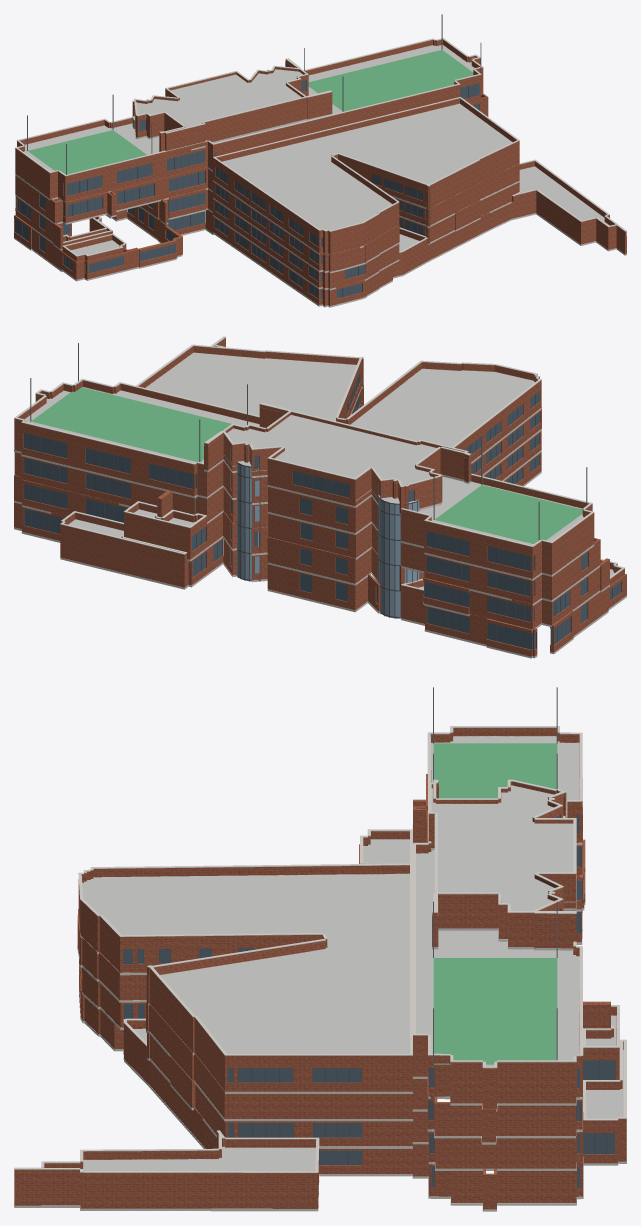
Rendered from campus-exterior.glb.
The picture shows the model from 3 angles, top to bottom: view 1: azimuth 30°, elevation 25°; view 2: azimuth 150°, elevation 25°; view 3: azimuth 270°, elevation 25°; orthographic projection. The views are drawn at different scales.
Parts seen in each view (by area): view 1: Ext_B_Roof, Ext_A_Rooftop, Ext_B_P2, Ext_A_Roof, Ext_A_Courts, Ext_A_P5, Ext_B_P5, Ext_B_P4, Ext_B_P3, Ext_A_P4, Ext_A_P2, Ext_A_P3; view 2: Ext_B_Roof, Ext_A_Rooftop, Ext_A_P2, Ext_A_P5, Ext_A_P3, Ext_A_Roof, Ext_A_P4, Ext_A_Courts, Ext_A_Stair_Towers, Ext_B_P5, Ext_B_P4, Ext_B_P2 (+1 smaller); view 3: Ext_B_Roof, Ext_A_Rooftop, Ext_A_Roof, Ext_A_Courts, Ext_B_P2, Ext_B_P5, Ext_B_P4, Ext_A_P2, Ext_B_P3, Ext_A_P4, Ext_A_P3, Ext_A_P5.
Boxes of the visible parts, x1,y1,x2,y2 form: Ext_B_Roof: (62,97,626,261); Ext_A_Rooftop: (132,58,332,151); Ext_B_P2: (61,166,626,307); Ext_A_Roof: (15,38,483,245); Ext_A_Courts: (27,14,481,174); Ext_A_P5: (15,45,483,201); Ext_B_P5: (213,103,519,255); Ext_B_P4: (213,163,519,273); Ext_B_P3: (213,182,519,290); Ext_A_P4: (15,93,488,224); Ext_A_P2: (14,206,214,271); Ext_A_P3: (15,188,212,250); Ext_B_Roof: (136,336,624,585); Ext_A_Rooftop: (204,402,471,514); Ext_A_P2: (14,502,608,658); Ext_A_P5: (14,387,594,580); Ext_A_P3: (14,475,609,631); Ext_A_Roof: (14,378,594,596); Ext_A_P4: (14,452,600,605); Ext_A_Courts: (30,343,587,543); Ext_A_Stair_Towers: (236,461,420,618); Ext_B_P5: (145,352,541,463); Ext_B_P4: (351,385,541,475); Ext_B_P2: (223,344,626,610); Ext_B_Roof: (14,829,412,1181); Ext_A_Rooftop: (428,779,576,950); Ext_A_Roof: (412,726,626,1128); Ext_A_Courts: (433,687,557,1064); Ext_B_P2: (14,844,412,1211); Ext_B_P5: (78,873,412,1093); Ext_B_P4: (77,909,413,1121); Ext_A_P2: (412,839,626,1211); Ext_B_P3: (79,959,412,1148); Ext_A_P4: (412,774,610,1144); Ext_A_P3: (412,799,619,1170); Ext_A_P5: (412,736,583,1111).
Size of the model in its own units: 79.24 by 20.47 by 59.49.
8 materials, 1 textured.
